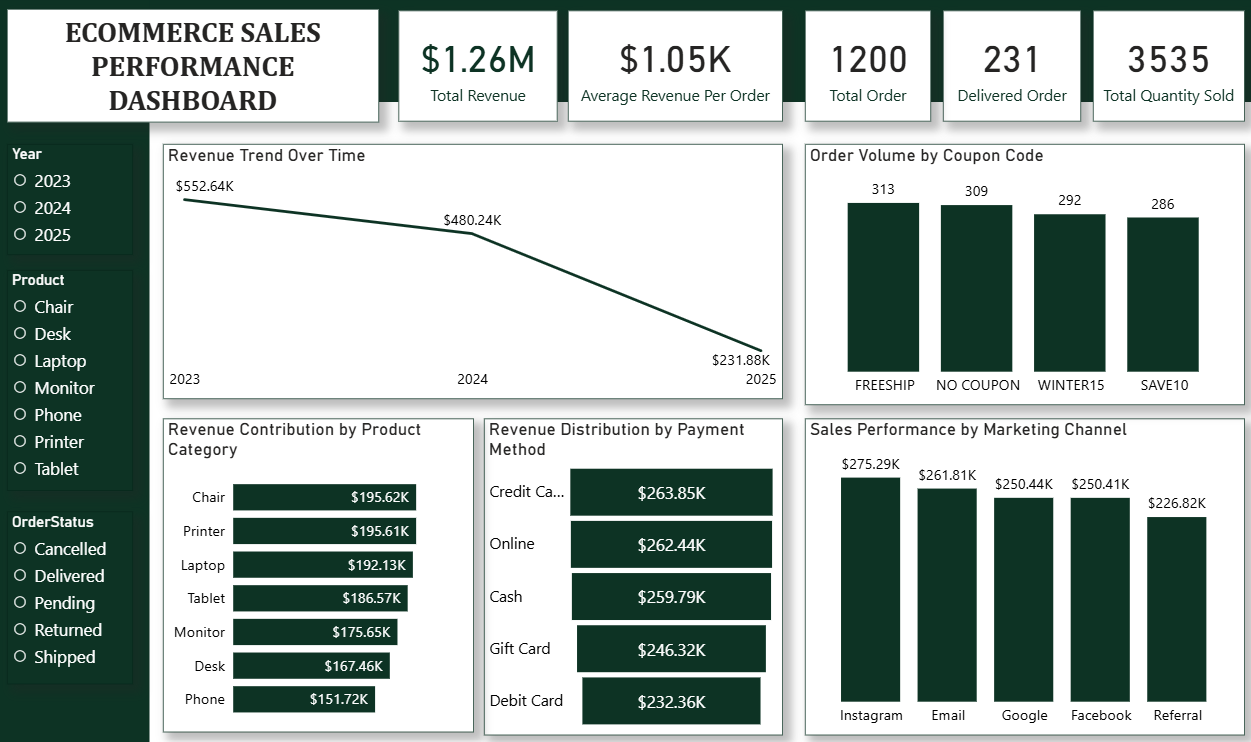

What the dashboard file says about the page in this screenshot:
{"tool":"powerbi","page":{"name":"Page 1","canvas":[1400,827],"ordinal":0},"visuals":[{"type":"shape","box":[0,0,1400,113.3],"z":1000},{"type":"shape","box":[0,0,168.3,826.7],"z":2000},{"type":"card","fields":{"Values":["Cleaned Dataset.Delivered Order"]},"box":[1050,11.7,153.3,123.3],"z":3000},{"type":"card","fields":{"Values":["Cleaned Dataset.Total Quantity Sold"]},"box":[1216.7,11.7,168.3,123.3],"z":4000},{"type":"card","fields":{"Values":["Cleaned Dataset.Total Revenue"]},"box":[445,11.7,176.7,123.3],"z":5000},{"type":"card","fields":{"Values":["Cleaned Dataset.Average Revenue Per Order"]},"box":[633.3,11.7,238.3,123.3],"z":6000},{"type":"card","fields":{"Values":["Cleaned Dataset.Total Order"]},"box":[896.7,11.7,140,123.3],"z":7000},{"type":"lineChart","title":"Revenue Trend Over Time","fields":{"Y":["Cleaned Dataset.Total Revenue"],"Category":["Cleaned Dataset.Date.Variation.Date Hierarchy.Year"]},"box":[183.3,160,688.3,283.3],"z":8000},{"type":"barChart","title":"Revenue Contribution by Product Category","fields":{"Y":["Cleaned Dataset.Total Revenue"],"Category":["Cleaned Dataset.Product"]},"box":[183.3,465,345,348.3],"z":9000},{"type":"columnChart","title":"Sales Performance by Marketing Channel","fields":{"Category":["Cleaned Dataset.ReferralSource"],"Y":["Cleaned Dataset.Total Revenue"]},"box":[896.7,465,488.3,351.7],"z":10000},{"type":"columnChart","title":"Order Volume by Coupon Code","fields":{"Category":["Cleaned Dataset.CouponCode"],"Y":["Cleaned Dataset.Total Order"]},"box":[896.7,160,488.3,290],"z":12000},{"type":"funnel","title":"Revenue Distribution by Payment Method","fields":{"Category":["Cleaned Dataset.PaymentMethod"],"Y":["Cleaned Dataset.Total Revenue"]},"box":[540,465,331.7,351.7],"z":13000},{"type":"textbox","box":[10,10,413.3,126],"z":13001},{"type":"listSlicer","fields":{"Values":["Cleaned Dataset.Date.Variation.Date Hierarchy.Year"]},"box":[10,160,140,123.3],"z":13002},{"type":"listSlicer","fields":{"Values":["Cleaned Dataset.Product"]},"box":[10,300,140,245],"z":13003},{"type":"listSlicer","fields":{"Values":["Cleaned Dataset.OrderStatus"]},"box":[10,568.3,140,191.7],"z":13004}]}

Visuals, with their boxes in screenshot pixels (x1, y1, x2, y2), scaled from the page's 1400x827 canvas onto the 1251x742 screenshot:
shape: {"left": 0, "top": 0, "right": 1250, "bottom": 102}
shape: {"left": 0, "top": 0, "right": 150, "bottom": 741}
card - Cleaned Dataset.Delivered Order: {"left": 938, "top": 10, "right": 1075, "bottom": 121}
card - Cleaned Dataset.Total Quantity Sold: {"left": 1087, "top": 10, "right": 1238, "bottom": 121}
card - Cleaned Dataset.Total Revenue: {"left": 398, "top": 10, "right": 556, "bottom": 121}
card - Cleaned Dataset.Average Revenue Per Order: {"left": 566, "top": 10, "right": 779, "bottom": 121}
card - Cleaned Dataset.Total Order: {"left": 801, "top": 10, "right": 926, "bottom": 121}
"Revenue Trend Over Time" lineChart: {"left": 164, "top": 144, "right": 779, "bottom": 398}
"Revenue Contribution by Product Category" barChart: {"left": 164, "top": 417, "right": 472, "bottom": 730}
"Sales Performance by Marketing Channel" columnChart: {"left": 801, "top": 417, "right": 1238, "bottom": 733}
"Order Volume by Coupon Code" columnChart: {"left": 801, "top": 144, "right": 1238, "bottom": 404}
"Revenue Distribution by Payment Method" funnel: {"left": 483, "top": 417, "right": 779, "bottom": 733}
textbox: {"left": 9, "top": 9, "right": 378, "bottom": 122}
listSlicer - Cleaned Dataset.Date.Variation.Date Hierarchy.Year: {"left": 9, "top": 144, "right": 134, "bottom": 254}
listSlicer - Cleaned Dataset.Product: {"left": 9, "top": 269, "right": 134, "bottom": 489}
listSlicer - Cleaned Dataset.OrderStatus: {"left": 9, "top": 510, "right": 134, "bottom": 682}
